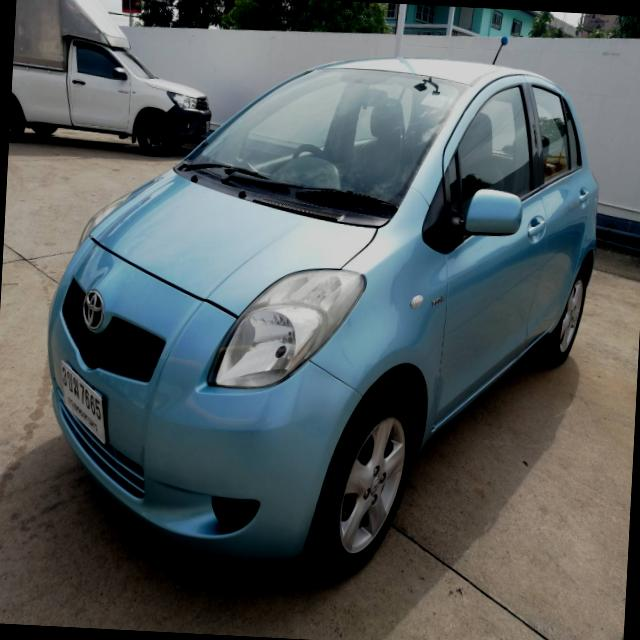license_plate: (57, 356, 111, 446)
